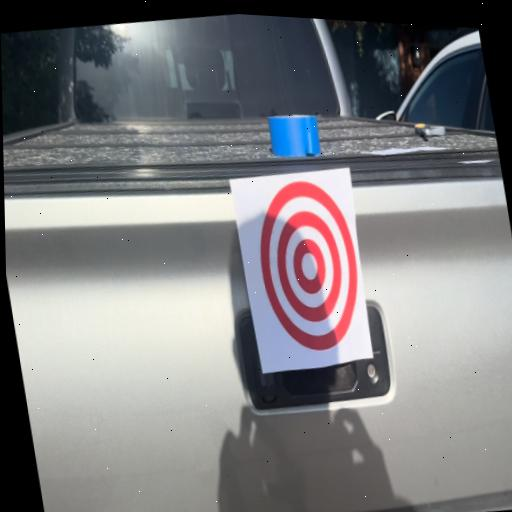bullseye: (249, 174, 370, 360)
